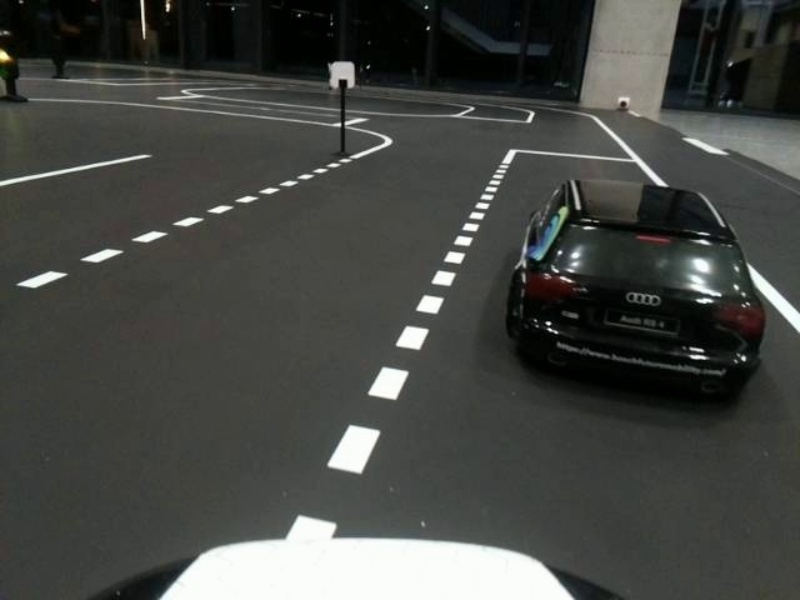car: (509, 175, 759, 407)
